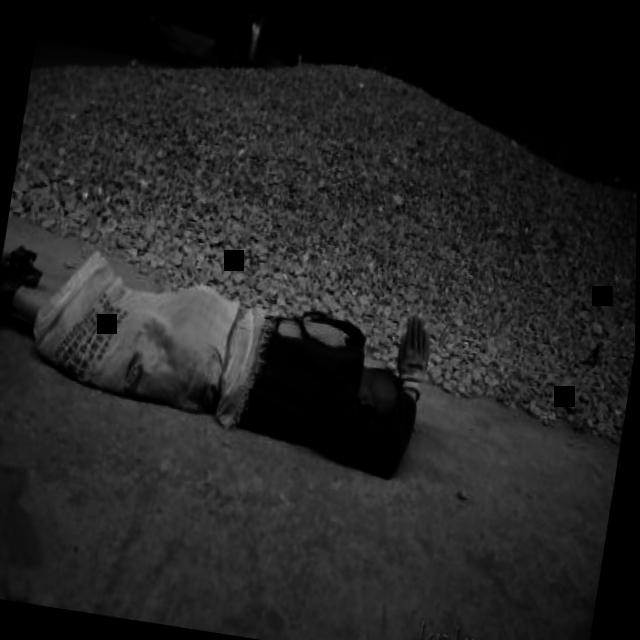Fall-Detected: (0, 215, 448, 473)
